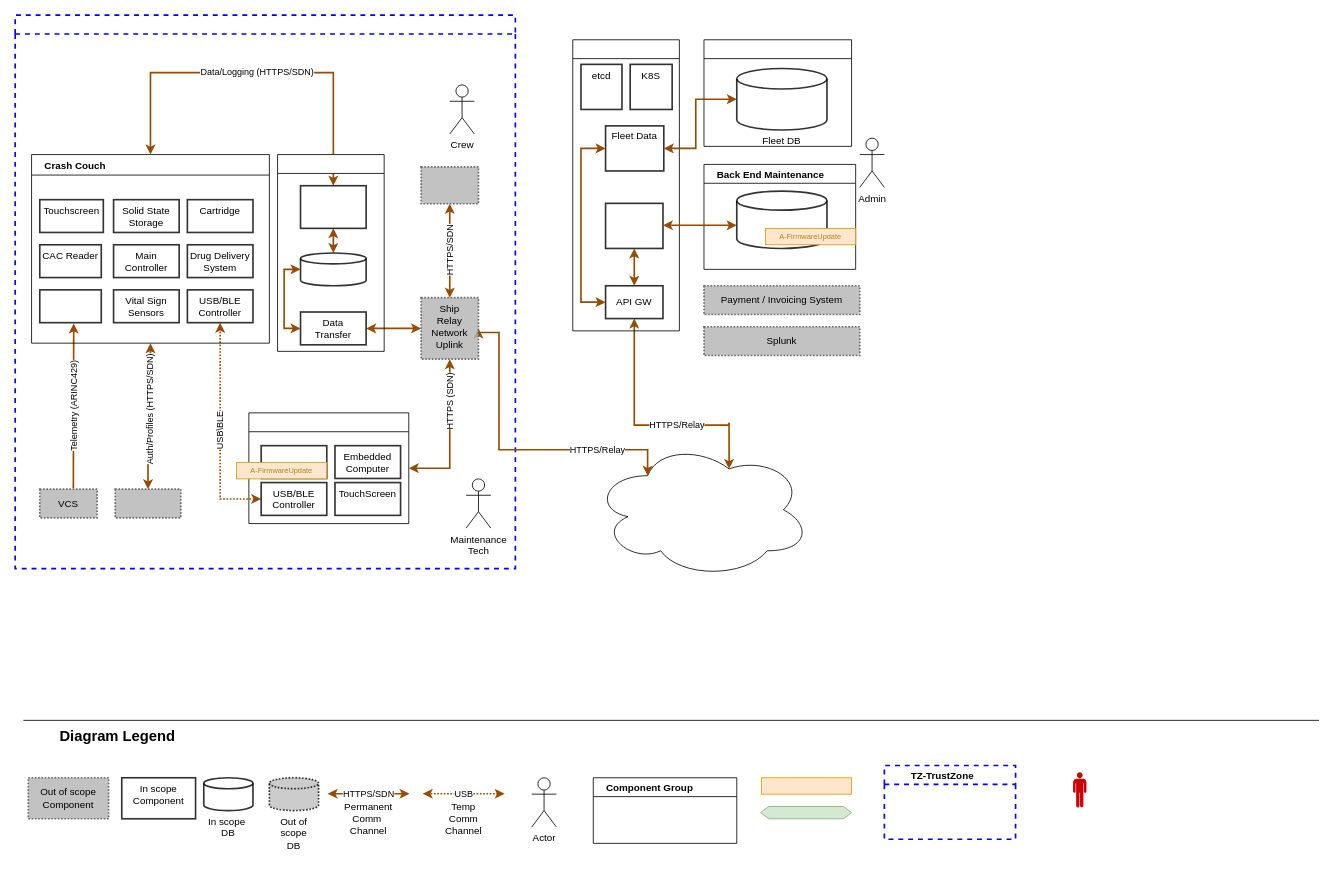
This 1334x882 diagram has some shape labels left out. The shapes that lost their labels are listed below. From the top down, each one's box as (x1, y1, x2, y2) in pixels, then its label:
(703, 39, 852, 146): Back End Fleet Data
(420, 166, 479, 204): SSIT
(572, 39, 679, 331): Front End Cluster
(299, 184, 367, 229): API GW & Services
(604, 202, 663, 249): Maint
(736, 190, 827, 249): Maintenance DB
(277, 154, 384, 351): SDMS
(299, 252, 367, 286): InventoryLogDB
(39, 289, 102, 323): 429 RCVR
(14, 14, 516, 569): TZ-VesselNetwork
(260, 444, 327, 479): Storage
(248, 412, 409, 524): Maintenance Handheld (SMH)
(114, 488, 181, 518): VPM
(592, 441, 811, 578): Relay Network
(761, 777, 852, 794): A-Asset
(1072, 771, 1086, 808): TA-ThreatAgent
(760, 806, 852, 819): C-Control
